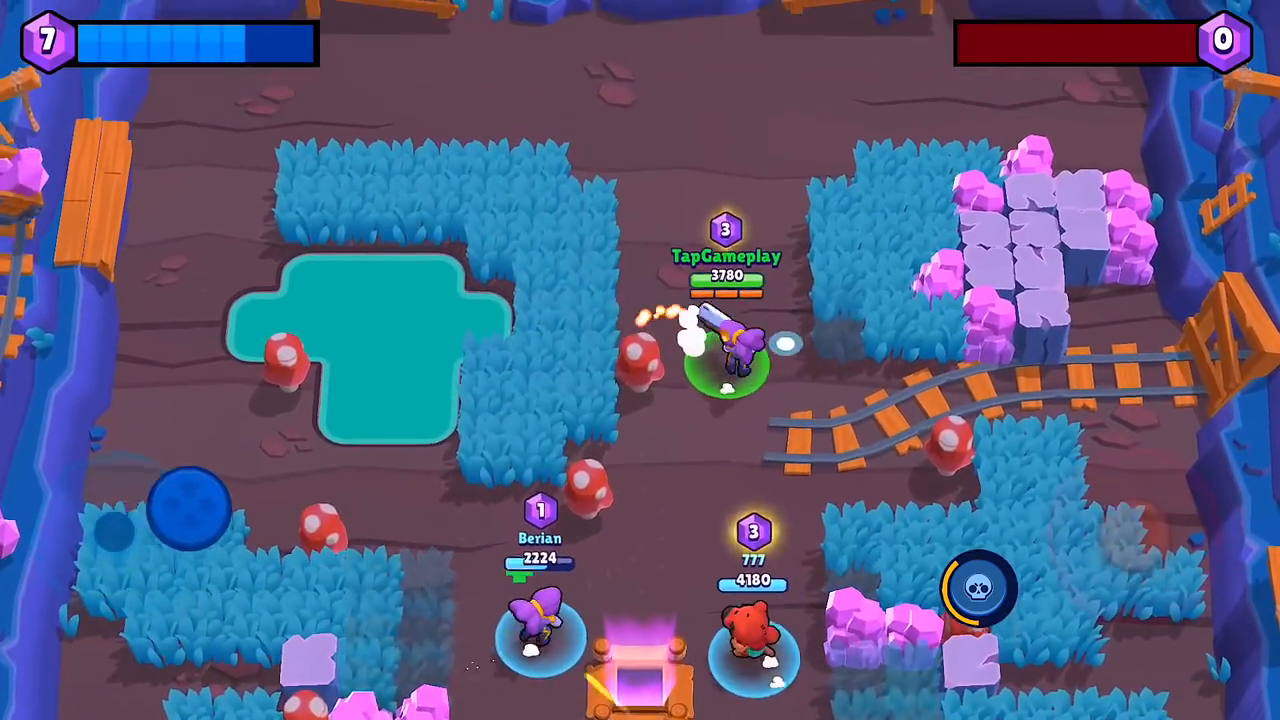move_stick: (143, 459, 228, 545)
